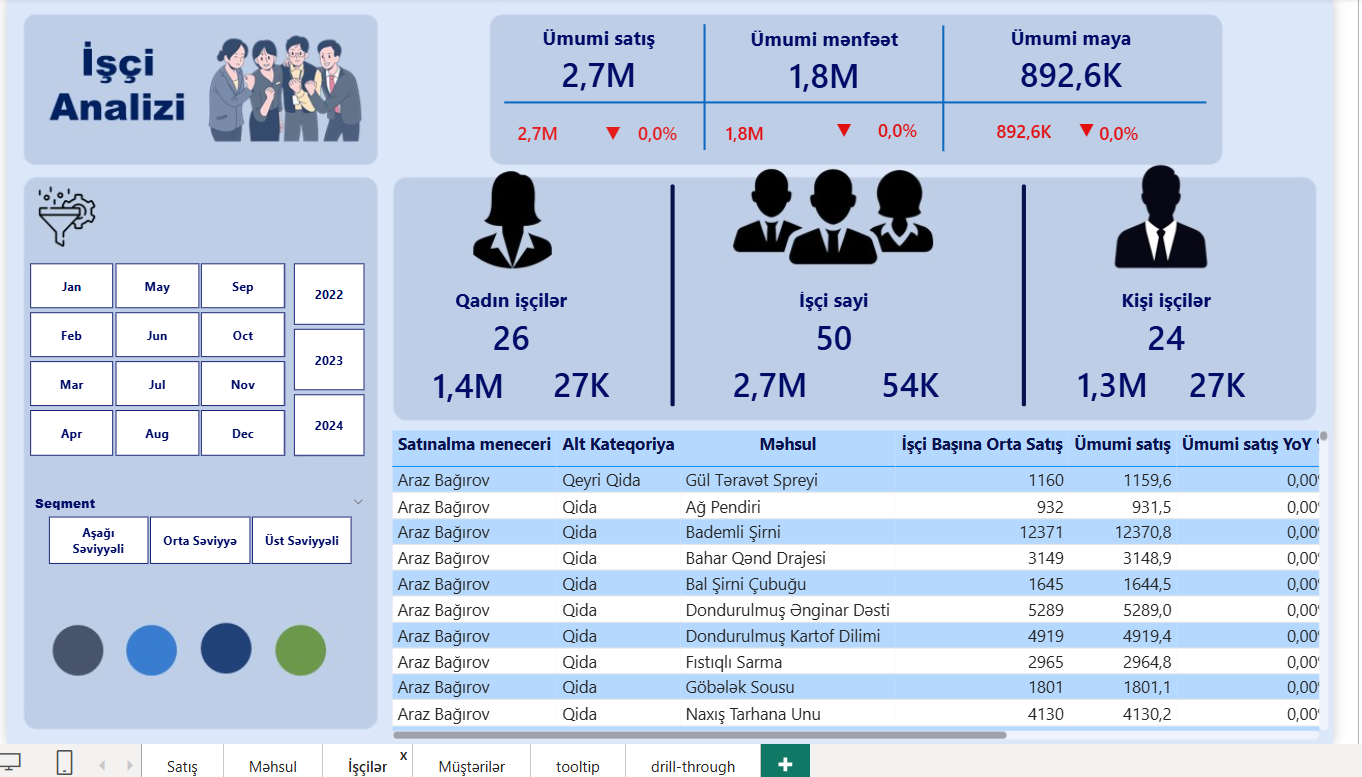

The page's visual inventory and layout, read from the dashboard file:
{"tool":"powerbi","page":{"name":"İşçilər","canvas":[1280,720],"ordinal":2},"visuals":[{"type":"slicer","fields":{"Values":["Tarix.Ay"]},"box":[0,252,288,193.3],"z":0},{"type":"slicer","fields":{"Values":["Tarix.Il"]},"box":[254.7,252,110.7,193.3],"z":1000},{"type":"slicer","fields":{"Values":["Müştərilər.Seqment"]},"box":[18.7,476,334.7,73.3],"z":2000},{"type":"actionButton","box":[34.7,597.3,65.3,62.7],"z":3000},{"type":"actionButton","box":[110.7,597.3,65.3,62.7],"z":4000},{"type":"actionButton","box":[176,597.3,65.3,62.7],"z":5000},{"type":"actionButton","box":[245.3,597.3,65.3,62.7],"z":6000},{"type":"cardVisual","fields":{"Data":["Dax.Ümumi mənfəət"]},"box":[686.7,14.7,205.3,93.3],"z":7000},{"type":"cardVisual","fields":{"Data":["Dax.Keçən Ay Satış"]},"box":[480,108,64,40],"z":8000},{"type":"cardVisual","fields":{"Data":["Dax.menfeet ikon"]},"box":[776,106.7,64,40],"z":9000},{"type":"cardVisual","fields":{"Data":["Dax.Keçən Ay Mənfəət"]},"box":[673.3,108,78.7,40],"z":10000},{"type":"cardVisual","fields":{"Data":["Dax.Ümumi maya"]},"box":[934.7,13.3,184,93.3],"z":11000},{"type":"cardVisual","fields":{"Data":["Dax.Ümumi maya MoM%"]},"box":[1041.3,108,64,40],"z":12000},{"type":"cardVisual","fields":{"Data":["Dax.Maya ikon"]},"box":[1009.3,106.7,64,40],"z":13000},{"type":"cardVisual","fields":{"Data":["Dax.Keçən maya"]},"box":[949.3,101.3,64,50.7],"z":14000},{"type":"cardVisual","fields":{"Data":["Dax.Satis ikon"]},"box":[561.3,108,48,40],"z":15000},{"type":"shape","box":[480,94.7,677.3,13.3],"z":16000},{"type":"shape","box":[609.3,25.3,128,121.3],"z":17000},{"type":"shape","box":[840,26.7,128,121.3],"z":18000},{"type":"cardVisual","fields":{"Data":["Dax.Ümumi satış"]},"box":[486.7,13.3,170.7,93.3],"z":19000},{"type":"cardVisual","fields":{"Data":["Dax.Ümumi satış MoM %"]},"box":[596,108,64,40],"z":20000},{"type":"cardVisual","fields":{"Data":["Dax.Ümumi mənfəət MoM%"]},"box":[816,106.7,88,40],"z":21000},{"type":"tableEx","fields":{"Values":["Mağaza İşçiləri.Satınalma meneceri","Alt Kateqoriyalar.Alt Kateqoriya","Məhsullar.Məhsul","Dax.İşçi Başına Orta Satış","Dax.Ümumi satış","Dax.Ümumi satış YoY %","Dax.Ümumi mənfəət","Dax.Ümumi mənfəət YoY%","Dax.Ümumi miqdar"]},"box":[365.3,412,914.7,308],"z":22000},{"type":"shape","box":[598.7,180,88,214.7],"z":23000},{"type":"shape","box":[974.7,180,13.3,214.7],"z":24000},{"type":"cardVisual","fields":{"Data":["Dax.Qadın işçilər"]},"box":[401.3,266.7,170.7,93.3],"z":25000},{"type":"cardVisual","fields":{"Data":["Dax.Kişi işçilər"]},"box":[1033.3,266.7,170.7,93.3],"z":26000},{"type":"cardVisual","fields":{"Data":["Dax.İşçi sayi"]},"box":[713.3,266.7,170.7,93.3],"z":27000},{"type":"cardVisual","fields":{"Data":["Dax.Stış q"]},"box":[365.3,332,160,81.3],"z":28000},{"type":"cardVisual","fields":{"Data":["Dax.Stış k"]},"box":[988,330.7,158.7,81.3],"z":29000},{"type":"cardVisual","fields":{"Data":["Dax.Miqdar q"]},"box":[481.3,330.7,146.7,81.3],"z":30000},{"type":"cardVisual","fields":{"Data":["Dax.Miqdar k"]},"box":[1086.7,330.7,162.7,81.3],"z":31000},{"type":"cardVisual","fields":{"Data":["Dax.Ümumi satış"]},"box":[657.3,330.7,158.7,81.3],"z":32000},{"type":"cardVisual","fields":{"Data":["Dax.Ümumi miqdar"]},"box":[798.7,330.7,146.7,81.3],"z":33000}]}

Visuals, with their boxes on the page's 1280x720 design canvas (x1, y1, x2, y2). These are canvas units, not pixel positions in the 1362x777 screenshot, which may show the page scaled, cropped or inside an application window:
slicer - Tarix.Ay: 0, 252, 288, 445
slicer - Tarix.Il: 255, 252, 365, 445
slicer - Müştərilər.Seqment: 19, 476, 353, 549
actionButton: 35, 597, 100, 660
actionButton: 111, 597, 176, 660
actionButton: 176, 597, 241, 660
actionButton: 245, 597, 311, 660
cardVisual - Dax.Ümumi mənfəət: 687, 15, 892, 108
cardVisual - Dax.Keçən Ay Satış: 480, 108, 544, 148
cardVisual - Dax.menfeet ikon: 776, 107, 840, 147
cardVisual - Dax.Keçən Ay Mənfəət: 673, 108, 752, 148
cardVisual - Dax.Ümumi maya: 935, 13, 1119, 107
cardVisual - Dax.Ümumi maya MoM%: 1041, 108, 1105, 148
cardVisual - Dax.Maya ikon: 1009, 107, 1073, 147
cardVisual - Dax.Keçən maya: 949, 101, 1013, 152
cardVisual - Dax.Satis ikon: 561, 108, 609, 148
shape: 480, 95, 1157, 108
shape: 609, 25, 737, 147
shape: 840, 27, 968, 148
cardVisual - Dax.Ümumi satış: 487, 13, 657, 107
cardVisual - Dax.Ümumi satış MoM %: 596, 108, 660, 148
cardVisual - Dax.Ümumi mənfəət MoM%: 816, 107, 904, 147
tableEx - Mağaza İşçiləri.Satınalma meneceri x Alt Kateqoriyalar.Alt Kateqoriya: 365, 412, 1280, 720
shape: 599, 180, 687, 395
shape: 975, 180, 988, 395
cardVisual - Dax.Qadın işçilər: 401, 267, 572, 360
cardVisual - Dax.Kişi işçilər: 1033, 267, 1204, 360
cardVisual - Dax.İşçi sayi: 713, 267, 884, 360
cardVisual - Dax.Stış q: 365, 332, 525, 413
cardVisual - Dax.Stış k: 988, 331, 1147, 412
cardVisual - Dax.Miqdar q: 481, 331, 628, 412
cardVisual - Dax.Miqdar k: 1087, 331, 1249, 412
cardVisual - Dax.Ümumi satış: 657, 331, 816, 412
cardVisual - Dax.Ümumi miqdar: 799, 331, 945, 412
